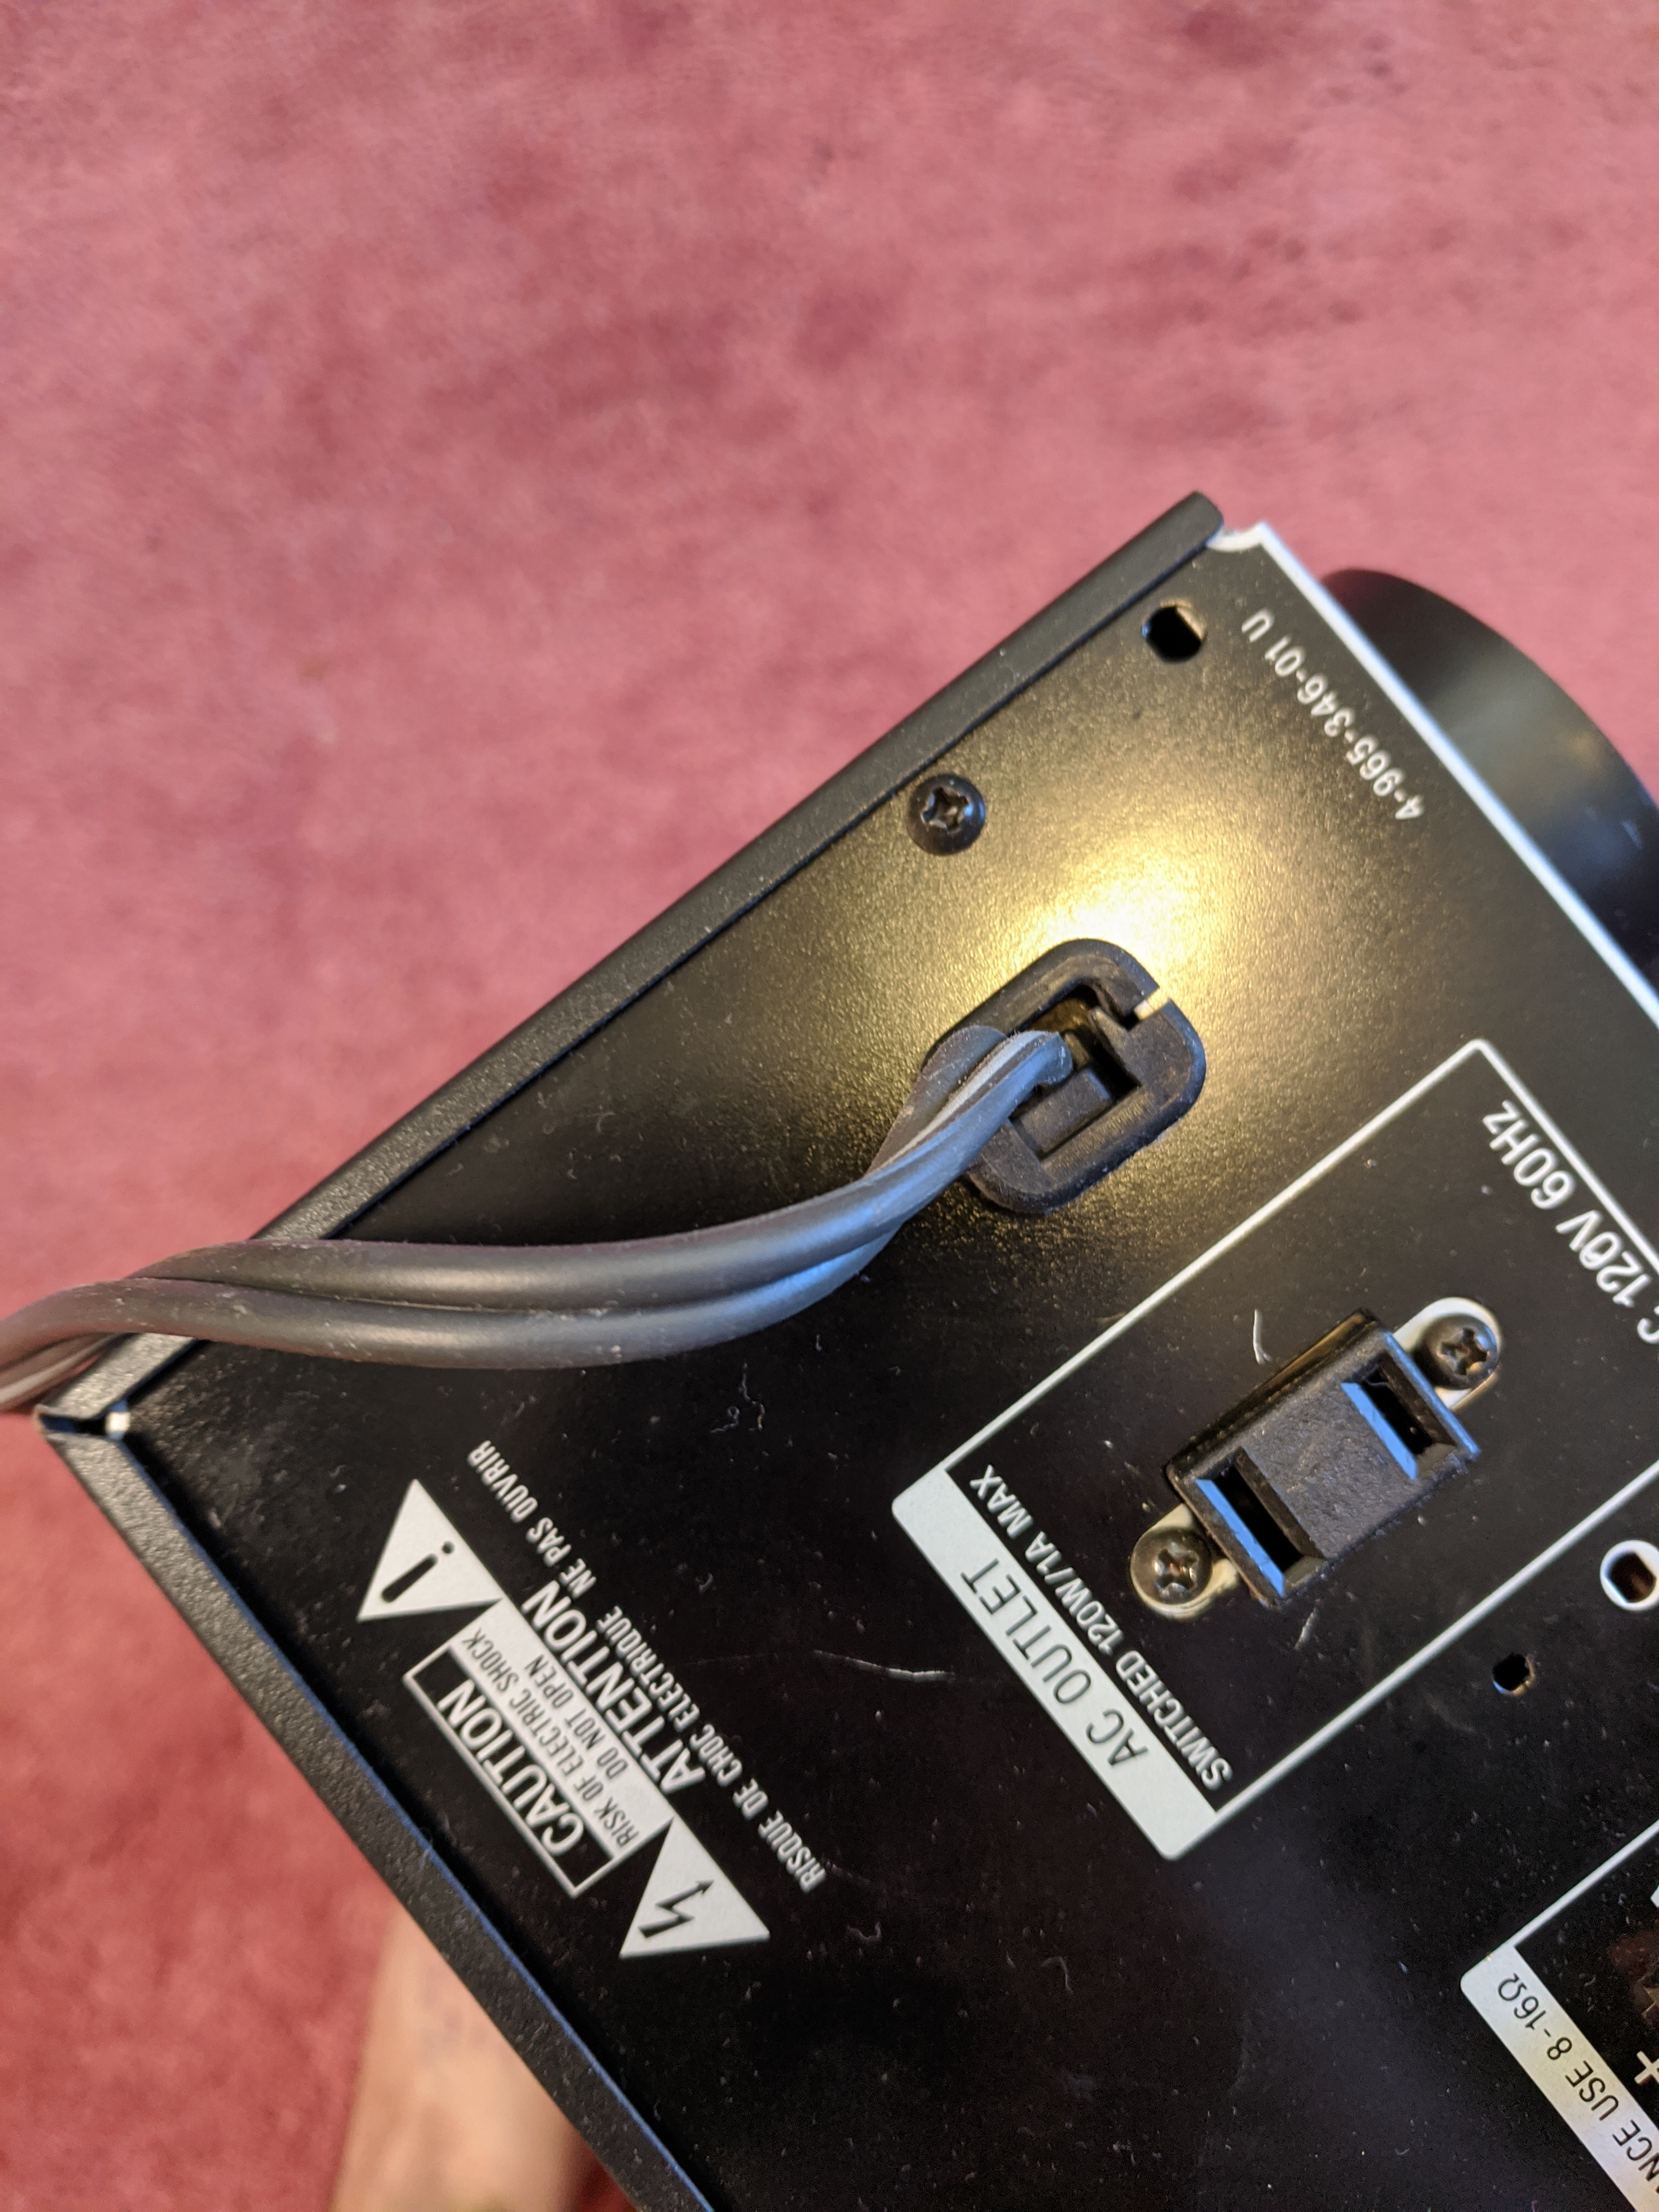cross_recessed_screw: (1126, 1521, 1229, 1609), (896, 754, 990, 850), (1420, 1296, 1502, 1388)
